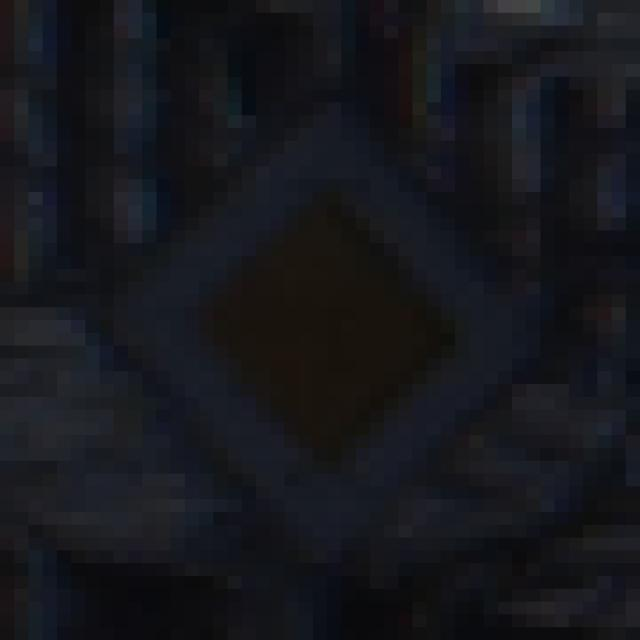Main Road: (72, 65, 570, 577)
